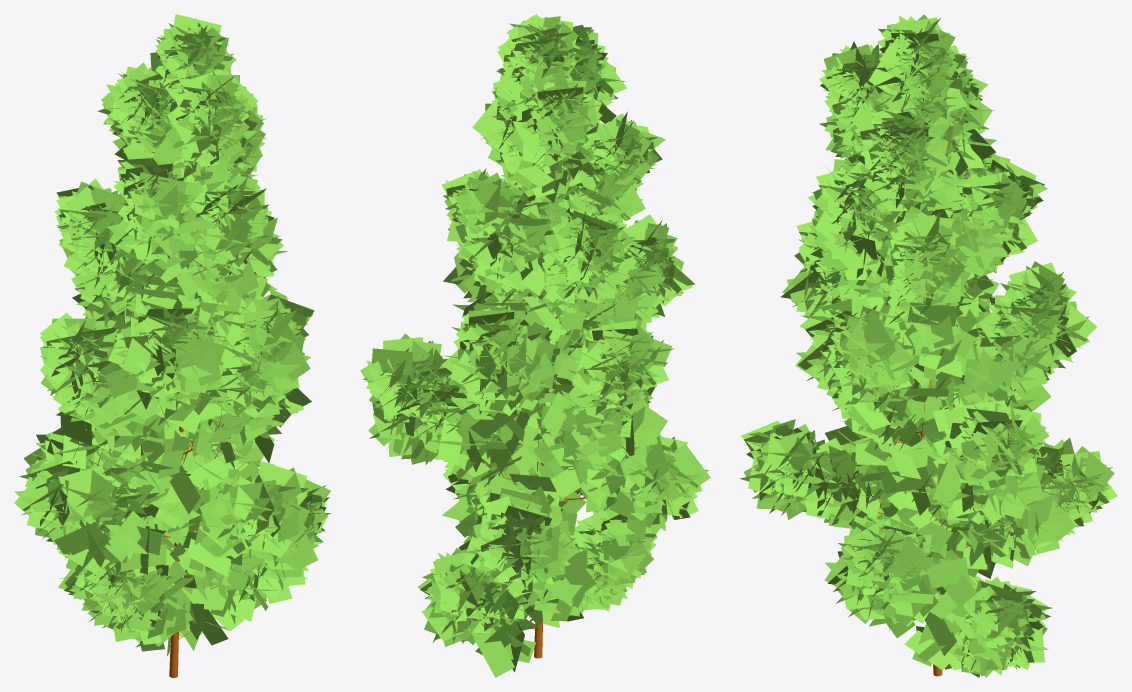
Rendered from tree1.glb.
3 views of the same model, side by side, from view 1: azimuth 30°, elevation 25°; view 2: azimuth 150°, elevation 25°; view 3: azimuth 270°, elevation 25° (orthographic). The views are drawn at different scales.
Visible parts, largest first — view 1: leaves, tree; view 2: leaves, tree; view 3: leaves.
Boxes of the visible parts, <box> form: leaves: <box>14,14,331,656</box>; tree: <box>79,151,247,677</box>; leaves: <box>360,14,710,677</box>; tree: <box>405,200,625,658</box>; leaves: <box>739,14,1117,677</box>.
Size of the model in its own units: 5.32 by 10.62 by 5.53.
